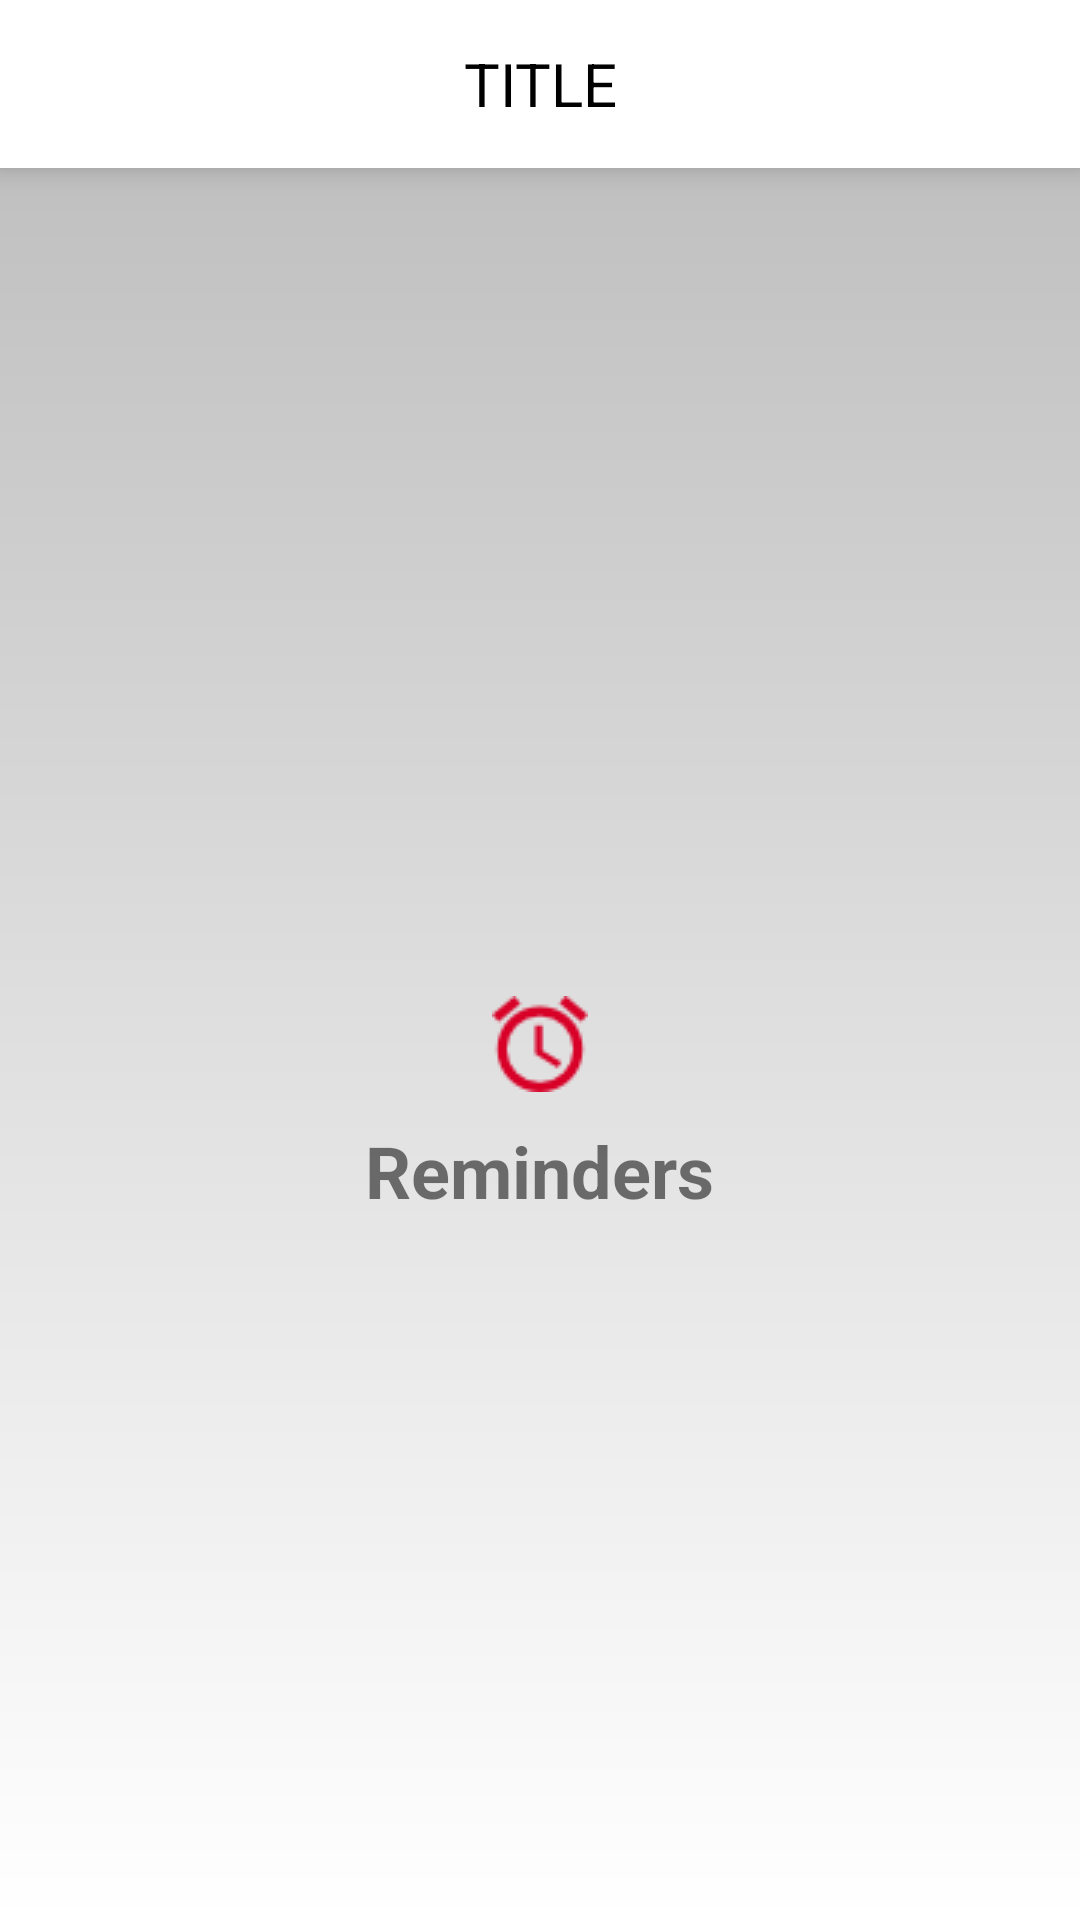

Screen size 1080w x 1920h. Icon name, then its center in pixels as point (x, y):
set alarm: point (540, 1044)
